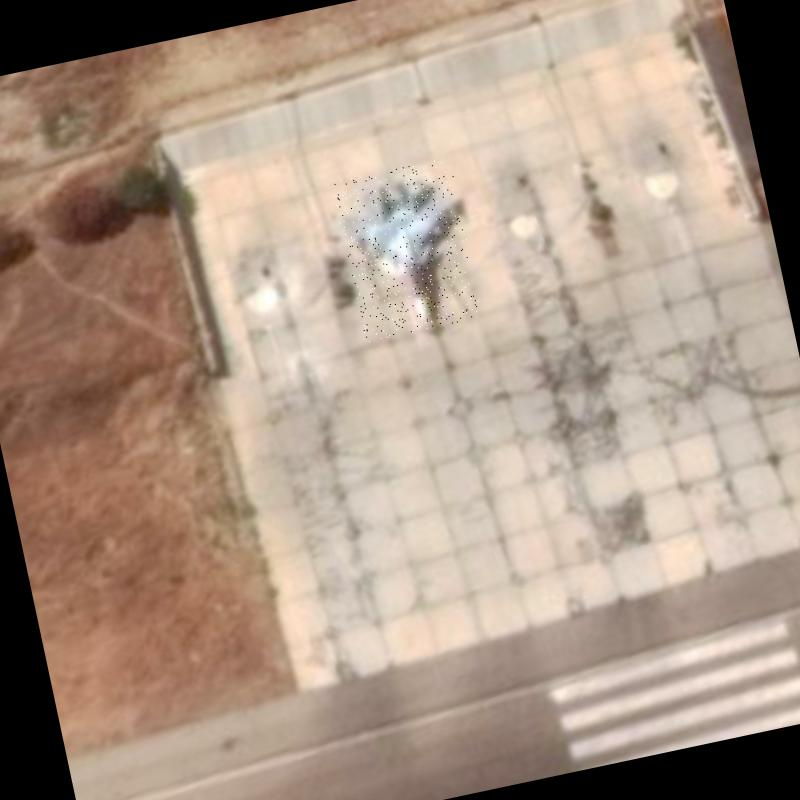A19: (332, 157, 484, 343)
